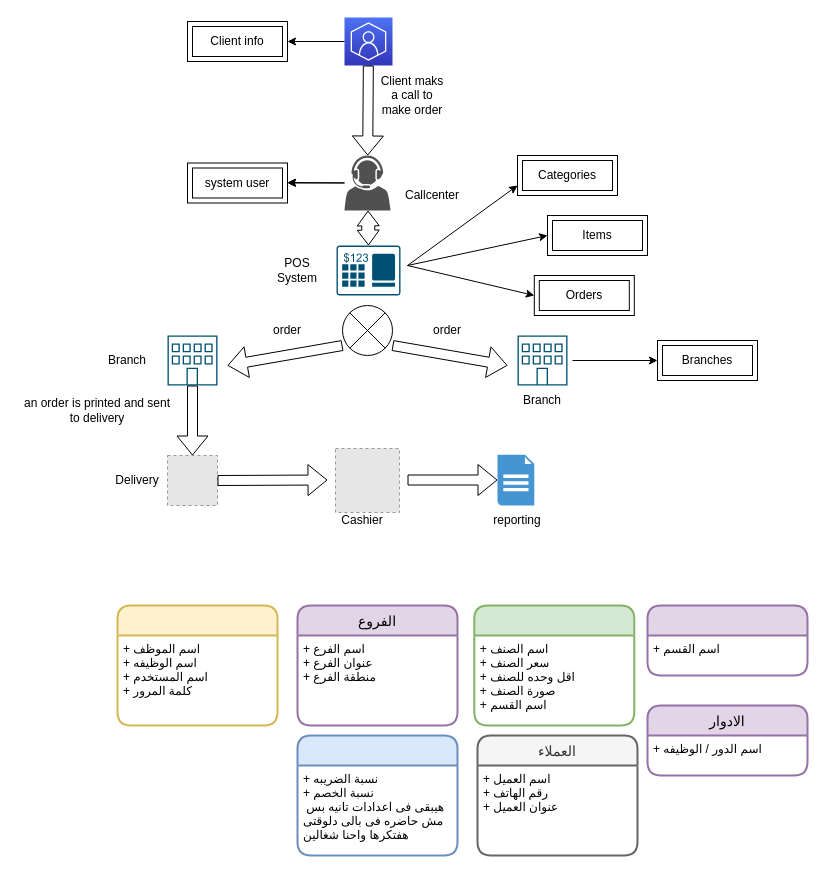
This 825x874 diagram has some shape labels left out. Grey dashed boxes stand in for pictures. Each missing label, with the box of its shape:
الإعدادات: (296, 734, 458, 856)
الاصناف: (473, 604, 635, 726)
الاقسام: (646, 604, 808, 676)
المستخدمين: (116, 604, 278, 726)
